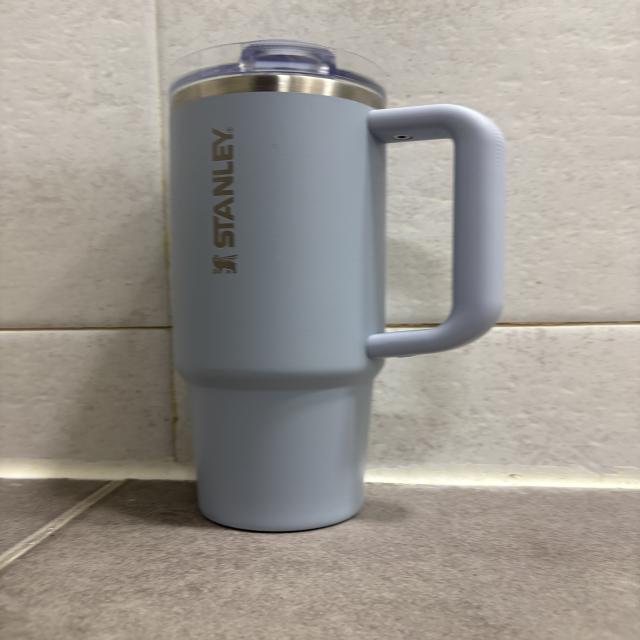waterbottle: (171, 39, 504, 534)
